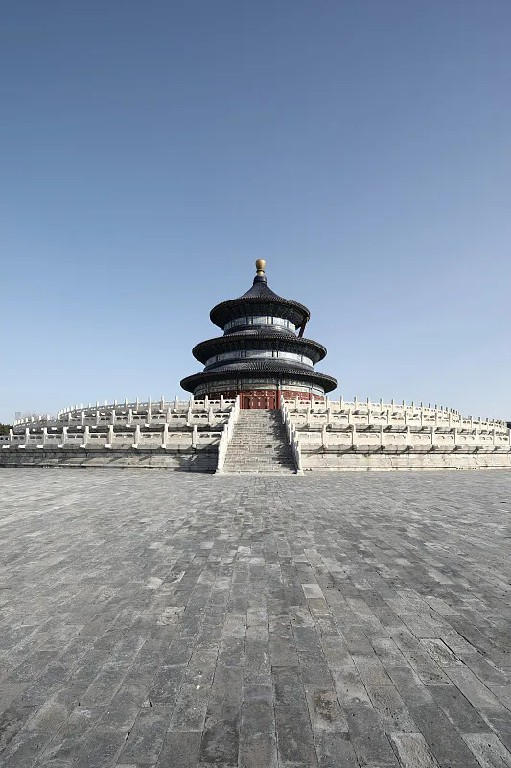Heaven: (175, 258, 341, 406)
